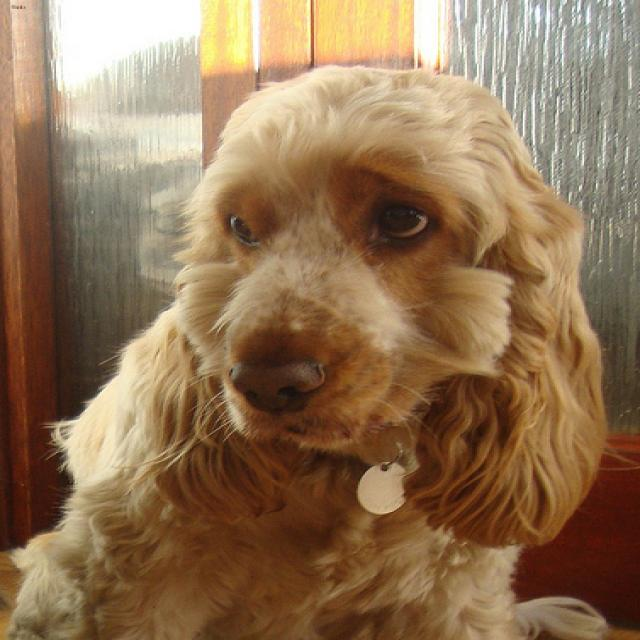dog-english_cocker_spaniel: (2, 59, 628, 637)
